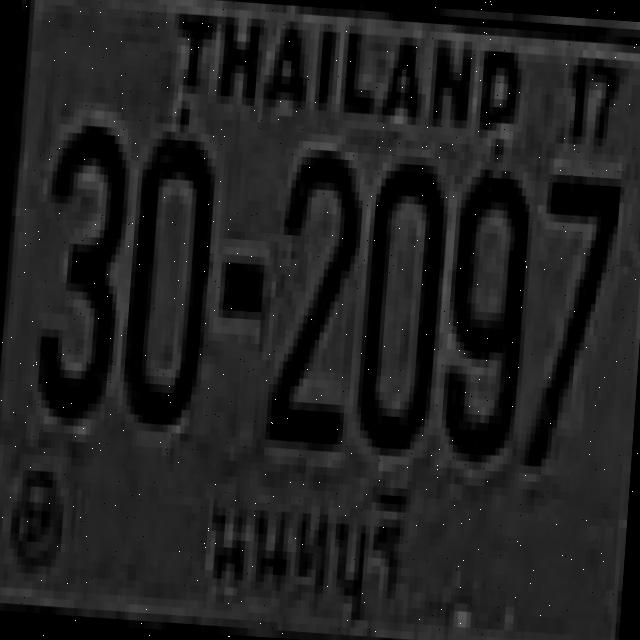0: (118, 129, 215, 426), (350, 154, 447, 450)
2: (264, 144, 362, 448)
3: (31, 115, 129, 420)
7: (522, 169, 619, 466)
9: (437, 160, 534, 456)
Nonthaburi: (191, 458, 421, 626)
